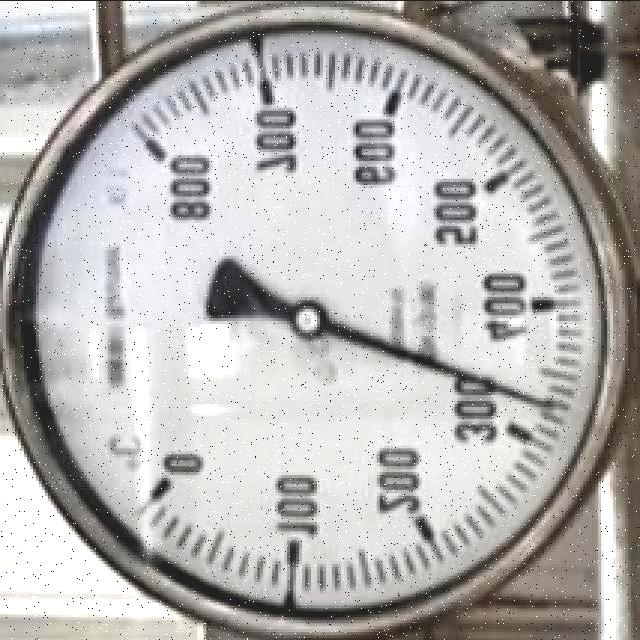Needle_Tip: (507, 364, 575, 435)
Needle_base: (274, 288, 337, 350)
max_value: (160, 139, 219, 232)
min_value: (162, 441, 219, 489)
